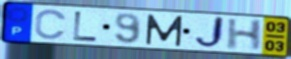9: (113, 12, 142, 45)
C: (33, 8, 69, 41)
H: (225, 18, 266, 52)
J: (192, 15, 227, 51)
L: (71, 10, 100, 43)
M: (145, 13, 185, 48)
